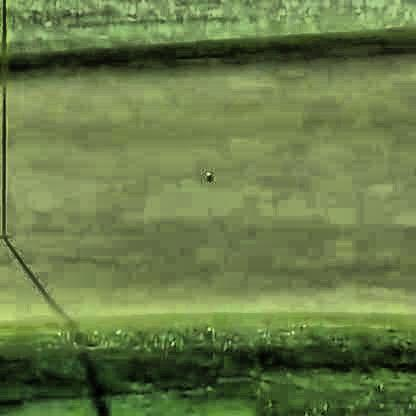golfball: (203, 167, 210, 177)
